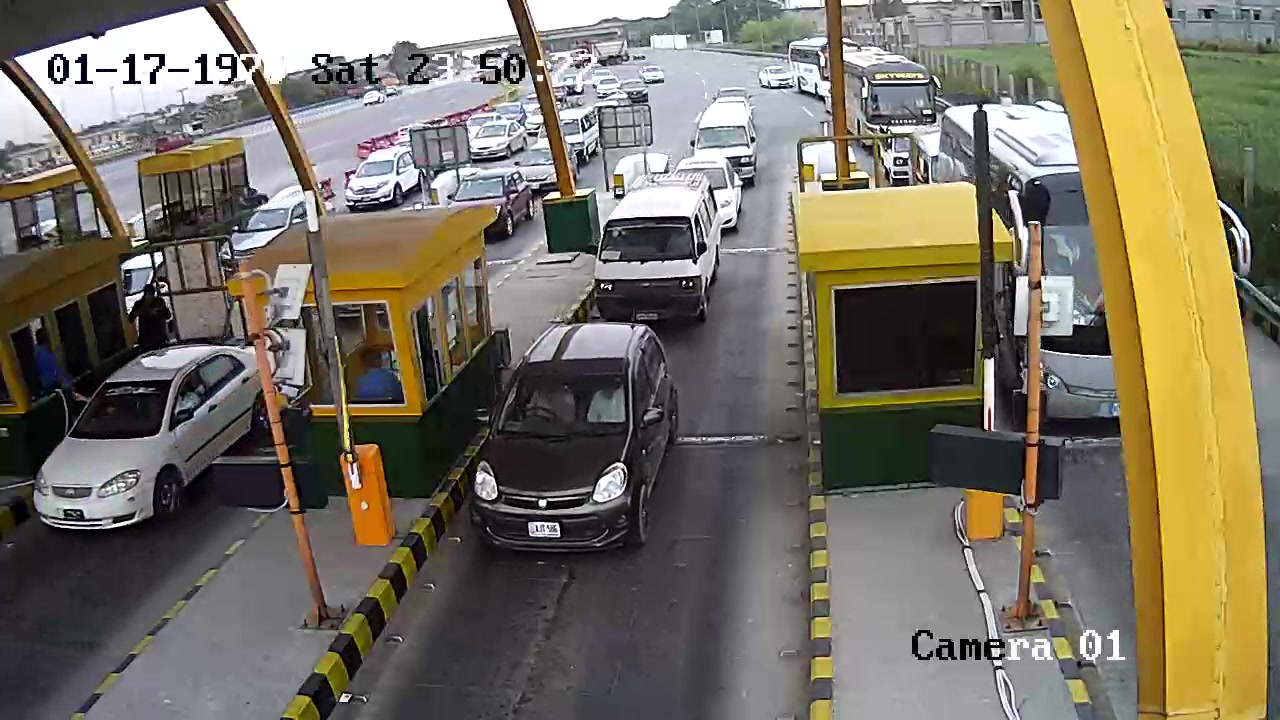F1: (478, 324, 682, 561)
F2: (592, 171, 728, 330)
